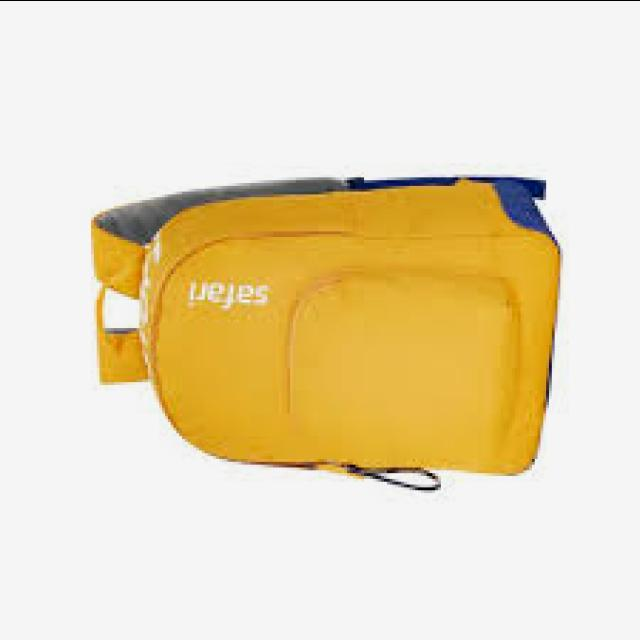backpack: (90, 175, 562, 493)
